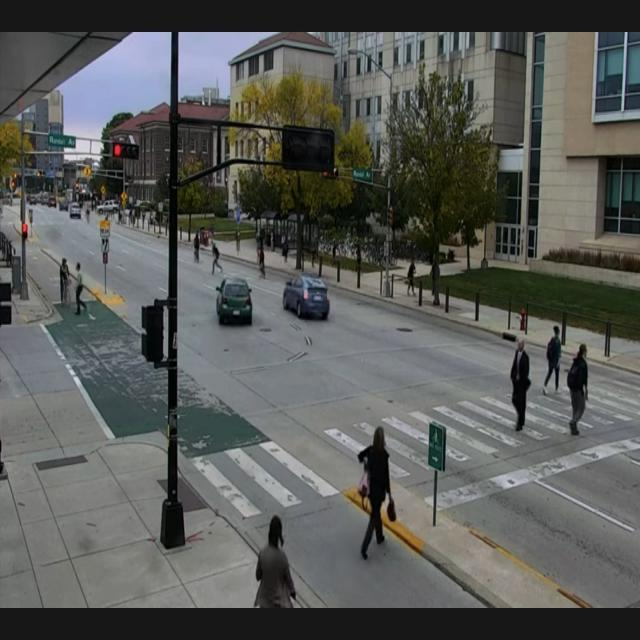Walking: (43, 226, 72, 337)
crossing: (328, 406, 411, 574), (487, 316, 542, 452), (567, 314, 615, 453), (540, 282, 576, 423), (71, 236, 94, 333), (204, 222, 230, 296)
